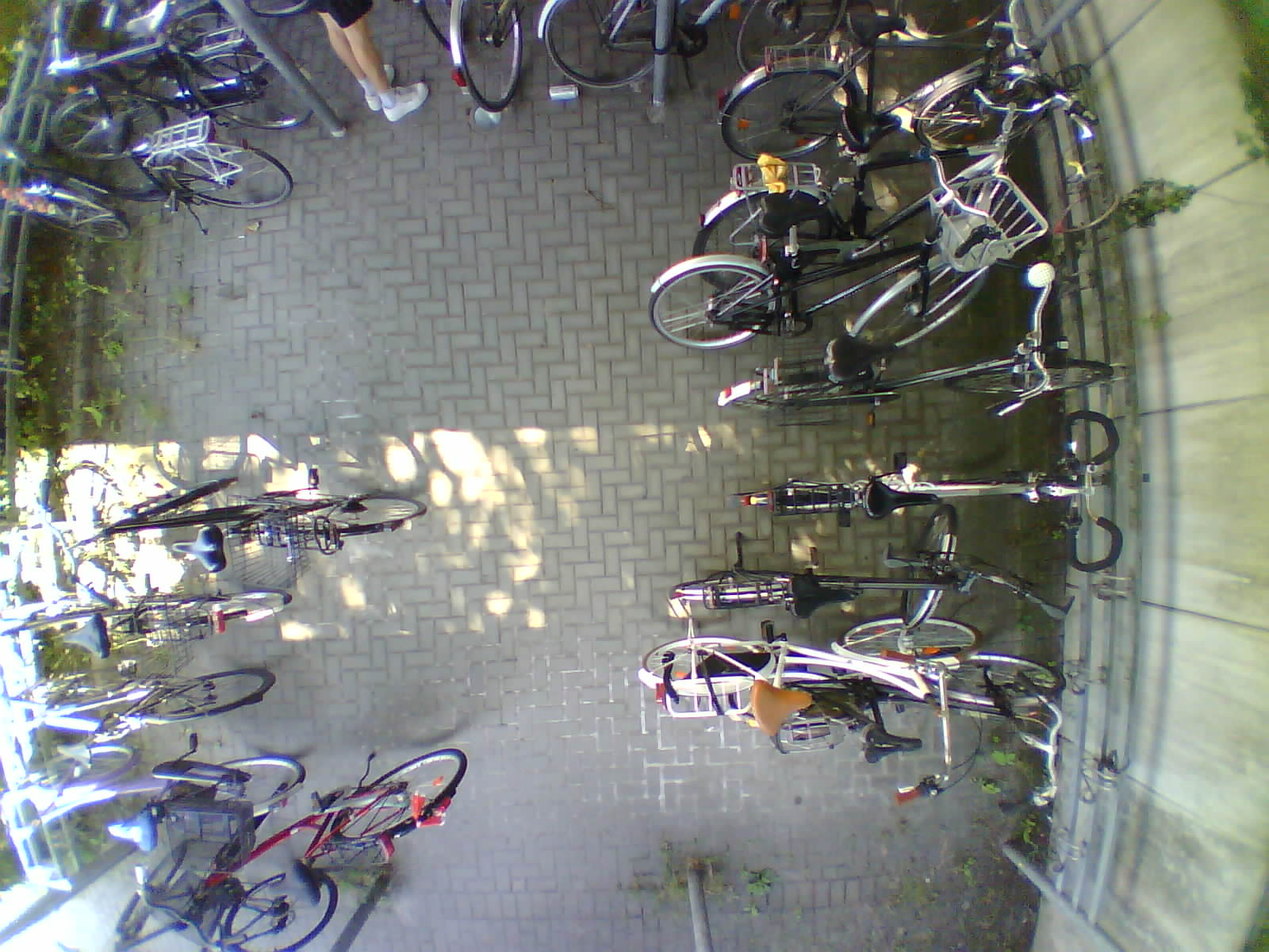bicylce: (165, 749, 475, 922), (644, 204, 1006, 351), (715, 18, 1048, 156), (696, 130, 1012, 270), (639, 618, 979, 729), (59, 473, 425, 574), (43, 13, 304, 150), (760, 656, 1068, 770), (5, 120, 295, 241), (718, 335, 1107, 420), (731, 449, 1116, 530), (659, 531, 965, 630), (11, 759, 299, 850), (100, 855, 332, 952), (11, 668, 276, 752), (8, 586, 293, 660), (238, 464, 245, 475)
saddle: (751, 676, 810, 740), (784, 574, 858, 618), (829, 334, 898, 380), (169, 523, 228, 575), (865, 480, 939, 521), (858, 720, 922, 767), (839, 106, 901, 151), (763, 191, 820, 238), (265, 862, 323, 908), (55, 616, 112, 661), (75, 113, 132, 156), (103, 811, 158, 852), (845, 8, 905, 43), (122, 1, 172, 36), (53, 744, 97, 769)
